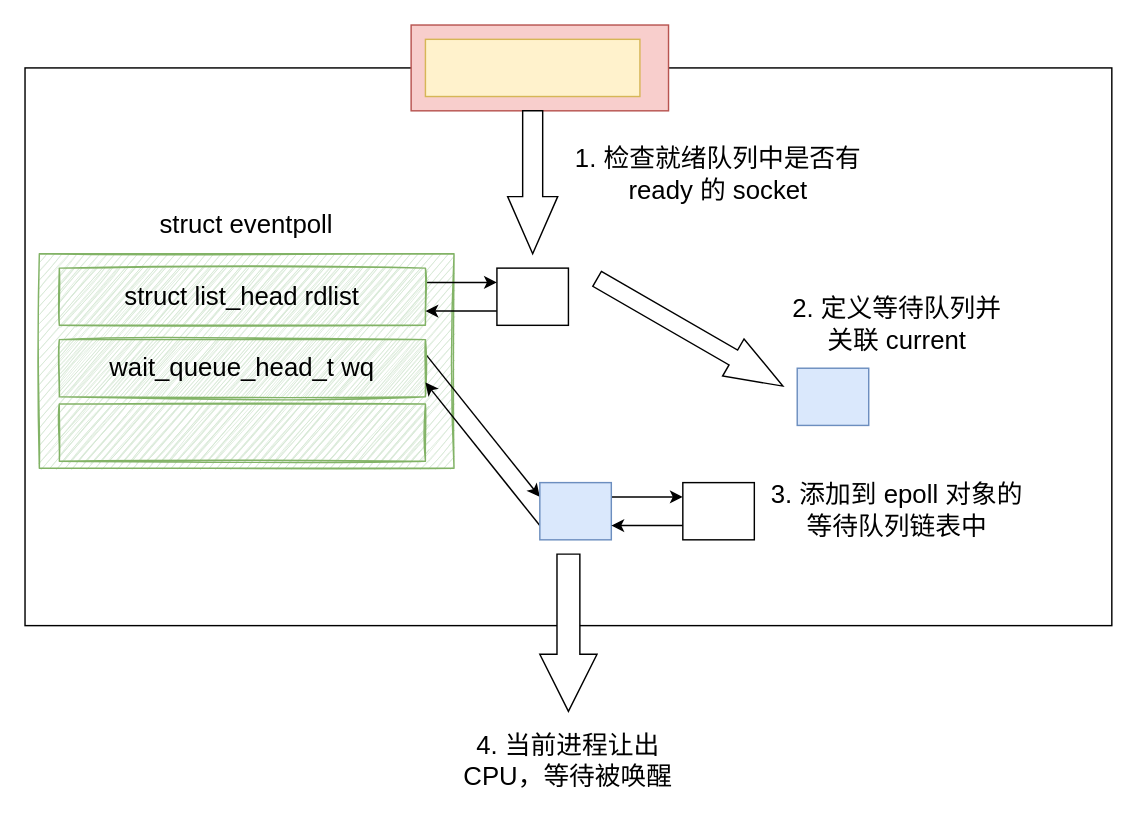
The diagram is 1137 pixels wide and 822 high, and some of its shapes have lost their labels. The shapes that lost their labels are listed below. From the top down, each one's centre as x and y in pixels, then its label:
(x=532, y=67): epoll_wait
(x=241, y=432): struct rb_root rbr
